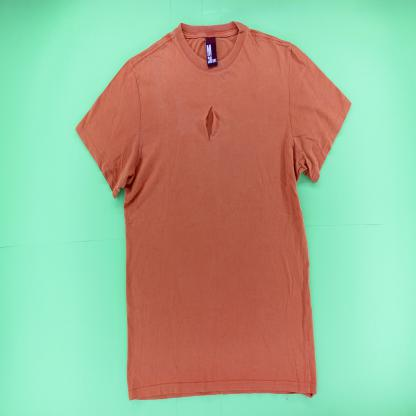hole: (205, 105, 215, 142)
